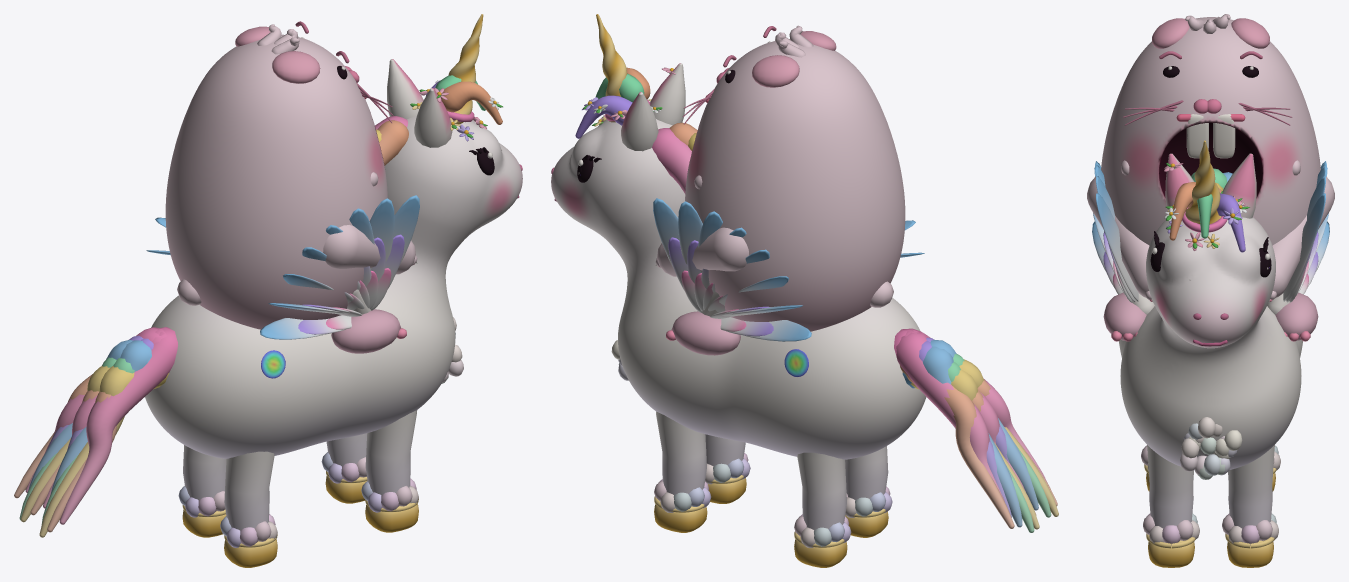
File: unicorn.glb
3 renders of one model, left to right at view 1: azimuth 30°, elevation 25°; view 2: azimuth 150°, elevation 25°; view 3: azimuth 270°, elevation 25°, orthographic.
Parts seen in each view (by area): view 1: UnicornBody, Hamster, Tail, WingR, LegBR, LegFR, LegBL, LegFL, HamArmR, HamFootR, HamEarR; view 2: UnicornBody, Hamster, Tail, WingL, LegBL, LegFL, LegBR, LegFR, HamArmL, HamFootL, HamEarL; view 3: UnicornBody, Hamster, LegFL, LegFR, WingL, WingR, HamArmL, HamArmR, HamFootL, HamFootR, HamEarL, HamEarR.
Part boxes in pixels (x1=…): UnicornBody: x1=145, y1=14, x2=522, y2=458; Hamster: x1=165, y1=21, x2=393, y2=329; Tail: x1=14, y1=327, x2=177, y2=537; WingR: x1=260, y1=195, x2=419, y2=339; LegBR: x1=220, y1=451, x2=277, y2=567; LegFR: x1=361, y1=410, x2=418, y2=532; LegBL: x1=178, y1=445, x2=226, y2=537; LegFL: x1=321, y1=433, x2=367, y2=503; HamArmR: x1=323, y1=225, x2=417, y2=274; HamFootR: x1=331, y1=309, x2=406, y2=353; HamEarR: x1=272, y1=51, x2=320, y2=83; UnicornBody: x1=551, y1=14, x2=926, y2=459; Hamster: x1=682, y1=25, x2=905, y2=331; Tail: x1=894, y1=328, x2=1058, y2=532; WingL: x1=653, y1=198, x2=811, y2=341; LegBL: x1=794, y1=452, x2=851, y2=567; LegFL: x1=654, y1=411, x2=711, y2=532; LegBR: x1=845, y1=446, x2=892, y2=537; LegFR: x1=705, y1=434, x2=750, y2=503; HamArmL: x1=655, y1=227, x2=748, y2=276; HamFootL: x1=666, y1=311, x2=740, y2=355; HamEarL: x1=752, y1=55, x2=799, y2=87; UnicornBody: x1=1119, y1=140, x2=1302, y2=479; Hamster: x1=1101, y1=14, x2=1320, y2=245; LegFL: x1=1222, y1=445, x2=1278, y2=567; LegFR: x1=1143, y1=445, x2=1199, y2=567; WingL: x1=1267, y1=161, x2=1329, y2=314; WingR: x1=1092, y1=161, x2=1154, y2=314; HamArmL: x1=1268, y1=176, x2=1334, y2=302; HamArmR: x1=1087, y1=176, x2=1152, y2=301; HamFootL: x1=1275, y1=292, x2=1318, y2=341; HamFootR: x1=1103, y1=292, x2=1146, y2=341; HamEarL: x1=1231, y1=18, x2=1269, y2=48; HamEarR: x1=1152, y1=18, x2=1189, y2=48.
Bounding box in the file's own units: 3.01 × 2.95 × 1.32.
